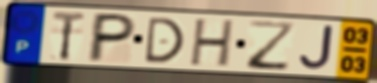D: (142, 16, 187, 65)
H: (188, 17, 238, 69)
J: (297, 24, 335, 72)
P: (84, 11, 139, 64)
T: (50, 10, 88, 63)
Z: (246, 19, 298, 73)
